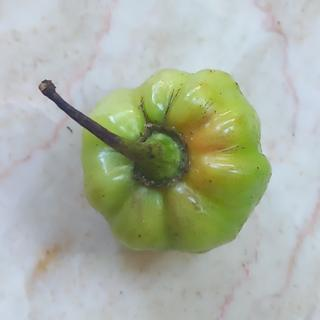Grade-B: (76, 64, 276, 259)
